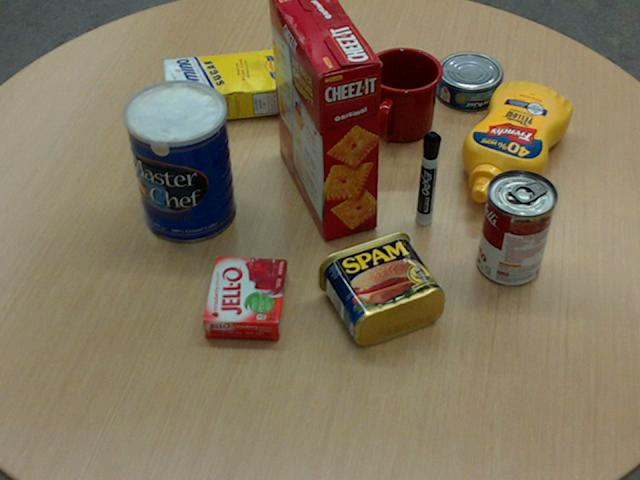cracker_box: (269, 0, 380, 239)
gelatin_box: (202, 255, 288, 339)
large_marker: (417, 132, 440, 225)
master_chef_can: (123, 79, 235, 243)
mug: (364, 47, 443, 142)
mustard_bottle: (461, 81, 571, 202)
potted_meat_can: (317, 230, 444, 344)
sugar_box: (162, 46, 310, 123)
tomato_soup_can: (477, 169, 557, 285)
tuna_fish_can: (434, 51, 502, 110)
